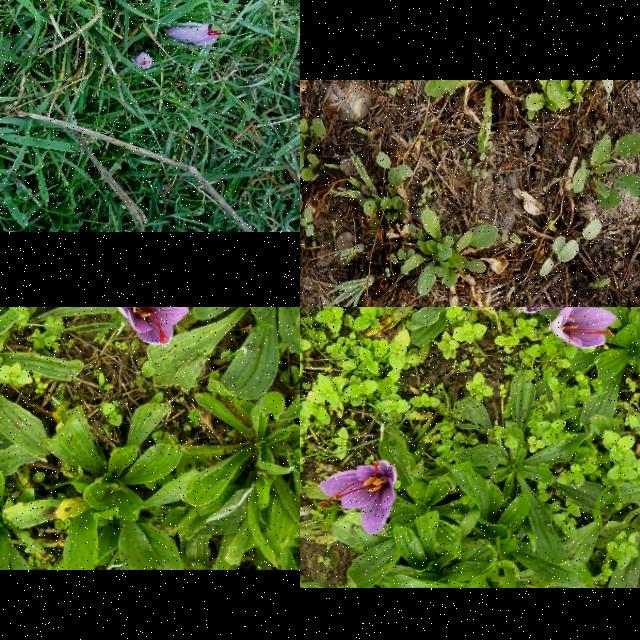flower: (320, 462, 398, 536), (551, 307, 619, 349), (116, 307, 190, 345), (164, 23, 220, 47), (135, 51, 153, 70)
